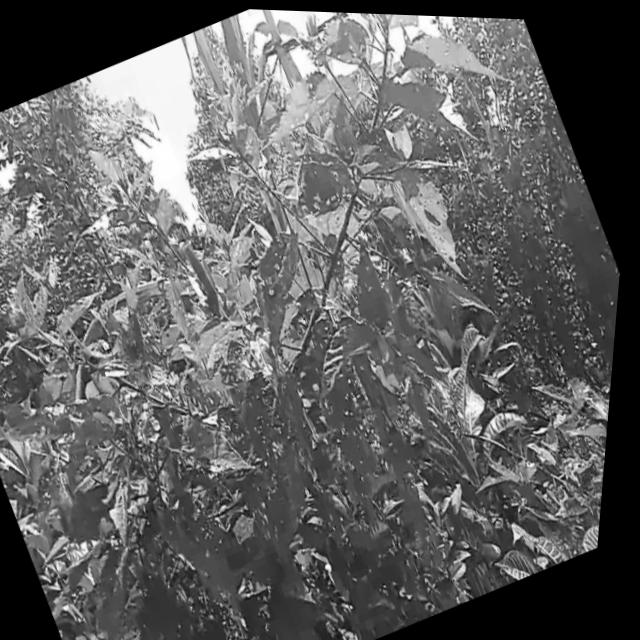Flower: (177, 229, 239, 306), (368, 318, 423, 397), (327, 474, 374, 528), (53, 483, 97, 538)
